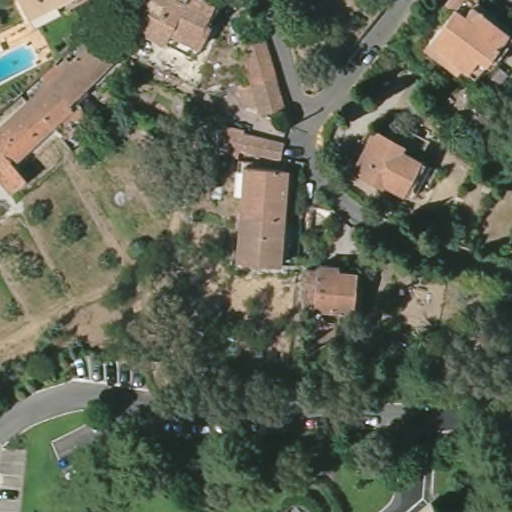pool: (1, 37, 37, 90)
